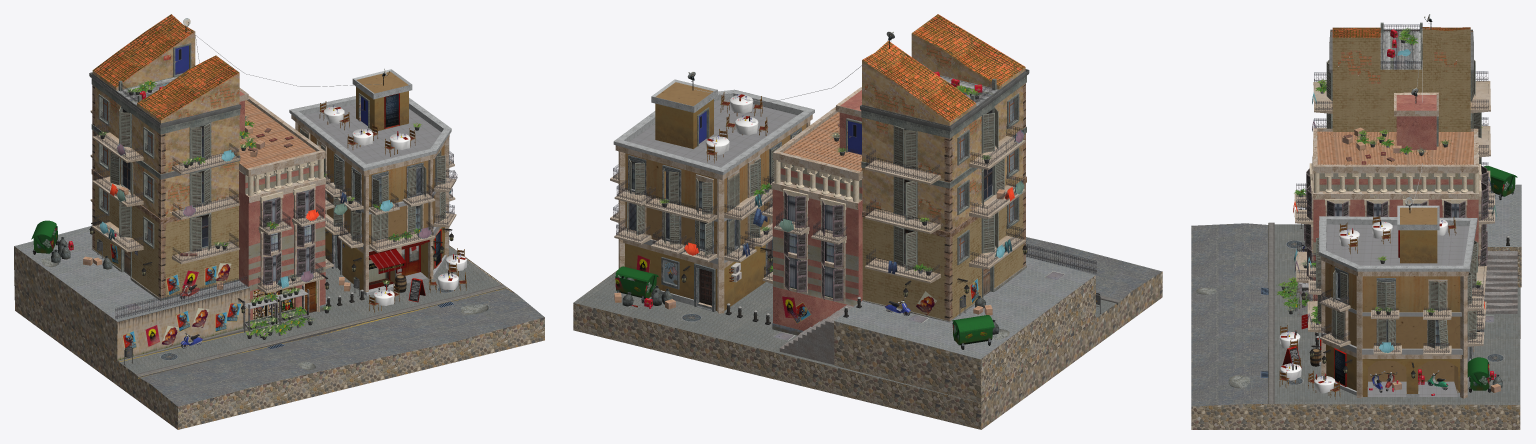
File: es_14faa847.glb
3 views of the same model, side by side, from view 1: azimuth 30°, elevation 25°; view 2: azimuth 150°, elevation 25°; view 3: azimuth 270°, elevation 25° (orthographic). The views are drawn at different scales.
Parts seen in each view (by area): view 1: Object_9, Object_16, Object_2, Object_22, Object_54, Object_53, Object_3, Object_24, Object_5, Object_8, Object_25, Object_19 (+25 smaller); view 2: Object_9, Object_16, Object_22, Object_54, Object_53, Object_24, Object_5, Object_8, Object_3, Object_25, Object_19, Object_26 (+16 smaller); view 3: Object_2, Object_16, Object_24, Object_3, Object_9, Object_54, Object_15, Object_53, Object_52, Object_20, Object_17, Object_19 (+20 smaller).
Part boxes in pixels (x1=…): Object_9: x1=14, y1=245, x2=544, y2=429; Object_16: x1=90, y1=106, x2=456, y2=293; Object_2: x1=140, y1=288, x2=544, y2=406; Object_22: x1=92, y1=31, x2=239, y2=218; Object_54: x1=289, y1=69, x2=451, y2=295; Object_53: x1=94, y1=65, x2=457, y2=291; Object_3: x1=118, y1=246, x2=500, y2=373; Object_24: x1=94, y1=177, x2=238, y2=297; Object_5: x1=14, y1=226, x2=249, y2=321; Object_8: x1=92, y1=14, x2=239, y2=119; Object_25: x1=89, y1=43, x2=369, y2=301; Object_19: x1=239, y1=88, x2=326, y2=321; Object_9: x1=573, y1=270, x2=1162, y2=429; Object_16: x1=610, y1=106, x2=1025, y2=305; Object_22: x1=862, y1=34, x2=1025, y2=231; Object_54: x1=613, y1=79, x2=814, y2=313; Object_53: x1=613, y1=82, x2=1023, y2=280; Object_24: x1=862, y1=193, x2=1024, y2=319; Object_5: x1=834, y1=256, x2=1095, y2=359; Object_8: x1=862, y1=14, x2=1025, y2=122; Object_3: x1=573, y1=272, x2=1116, y2=402; Object_25: x1=697, y1=69, x2=1029, y2=322; Object_19: x1=771, y1=87, x2=862, y2=335; Object_26: x1=699, y1=44, x2=1025, y2=320; Object_2: x1=1191, y1=223, x2=1268, y2=406; Object_16: x1=1294, y1=60, x2=1494, y2=355; Object_24: x1=1332, y1=29, x2=1470, y2=131; Object_3: x1=1274, y1=224, x2=1520, y2=404; Object_9: x1=1191, y1=247, x2=1521, y2=429; Object_54: x1=1318, y1=205, x2=1477, y2=398; Object_15: x1=1325, y1=207, x2=1460, y2=392; Object_53: x1=1296, y1=24, x2=1493, y2=352; Object_52: x1=1326, y1=224, x2=1469, y2=396; Object_20: x1=1309, y1=139, x2=1481, y2=265; Object_17: x1=1313, y1=95, x2=1478, y2=300; Object_19: x1=1309, y1=92, x2=1481, y2=300.
Bounding box in the file's own units: 1290 × 981 × 989.
Materials: 50 (49 with a texture image).
